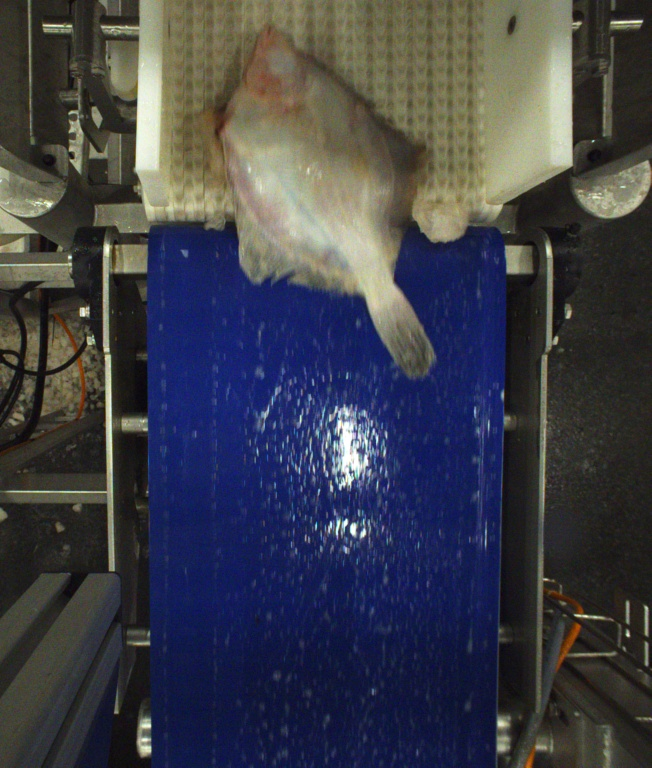PLE: (214, 25, 435, 377)
